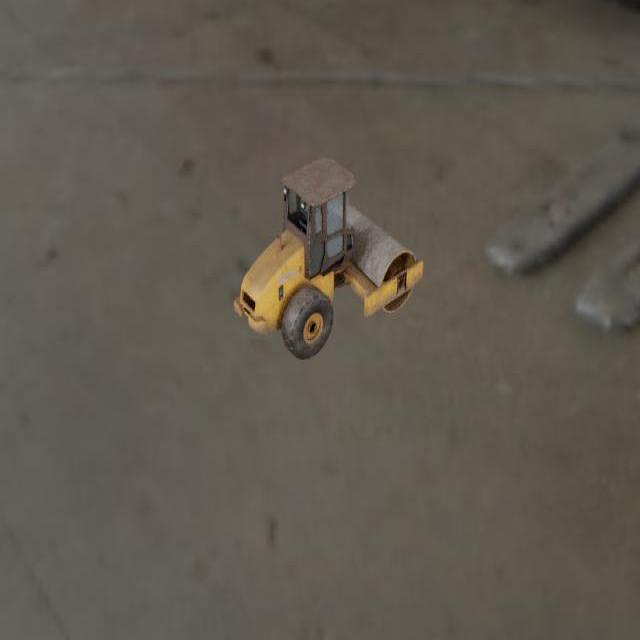Roller: (233, 156, 423, 360)
